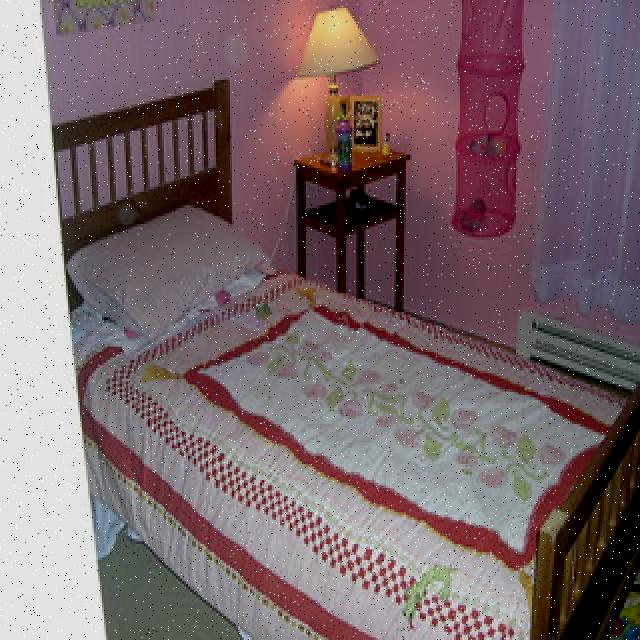bed: (64, 196, 640, 640)
